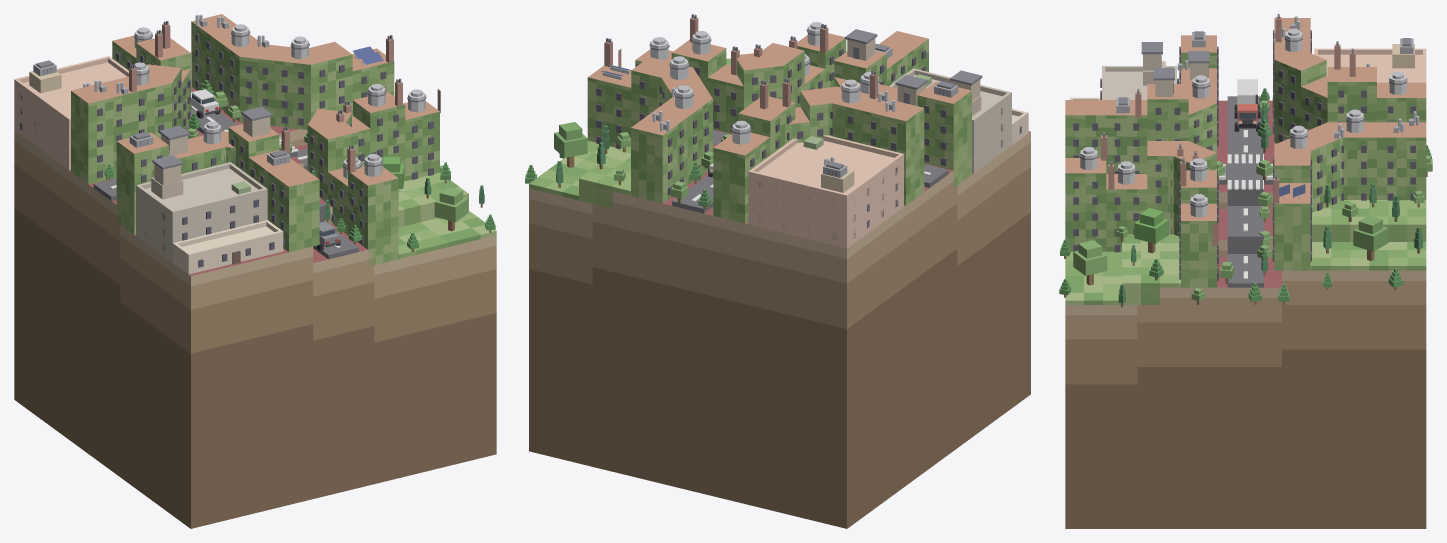
Rendered from block_18_greenfacade_55.glb.
3 renders of one model, left to right at view 1: azimuth 30°, elevation 25°; view 2: azimuth 150°, elevation 25°; view 3: azimuth 270°, elevation 25°, orthographic. The views are drawn at different scales.
Parts seen in each view (by area): view 1: Patch_MidRight_b17_GF, Cerda_MidRight_b17_GF, Insets_MidRight_b17_GF, CerdaRoofProps_MidRight_b17_GF, Green_MidRight_b17_GF, Roads_MidRight_b17_GF, Asset_Tree_Round.071_GF, Asset_Car.038_GF; view 2: Patch_MidRight_b17_GF, Cerda_MidRight_b17_GF, Insets_MidRight_b17_GF, CerdaRoofProps_MidRight_b17_GF, Green_MidRight_b17_GF, Roads_MidRight_b17_GF, Asset_Tree_Round.064_GF; view 3: Patch_MidRight_b17_GF, Cerda_MidRight_b17_GF, Green_MidRight_b17_GF, CerdaRoofProps_MidRight_b17_GF, Roads_MidRight_b17_GF, Insets_MidRight_b17_GF, Asset_Truck.010_GF, Asset_Tree_Round.064_GF, Asset_Tree_Round.071_GF, Asset_Tree_Round.070_GF, Zebra_MidRight_b17_GF.
Boxes of the visible parts, box(x1,y1,x2,y2) form: Patch_MidRight_b17_GF: box(14, 87, 496, 528); Cerda_MidRight_b17_GF: box(71, 14, 439, 265); Insets_MidRight_b17_GF: box(14, 56, 283, 274); CerdaRoofProps_MidRight_b17_GF: box(33, 14, 440, 185); Green_MidRight_b17_GF: box(398, 172, 496, 258); Roads_MidRight_b17_GF: box(93, 91, 358, 259); Asset_Tree_Round.071_GF: box(434, 187, 468, 231); Asset_Car.038_GF: box(191, 89, 219, 118); Patch_MidRight_b17_GF: box(529, 129, 1030, 528); Cerda_MidRight_b17_GF: box(587, 31, 971, 223); Insets_MidRight_b17_GF: box(748, 68, 1028, 248); CerdaRoofProps_MidRight_b17_GF: box(601, 14, 982, 177); Green_MidRight_b17_GF: box(529, 141, 645, 208); Roads_MidRight_b17_GF: box(672, 130, 948, 213); Asset_Tree_Round.064_GF: box(554, 122, 587, 167); Patch_MidRight_b17_GF: box(1065, 100, 1426, 528); Cerda_MidRight_b17_GF: box(1065, 18, 1426, 287); Green_MidRight_b17_GF: box(1065, 200, 1426, 304); CerdaRoofProps_MidRight_b17_GF: box(1079, 14, 1419, 245); Roads_MidRight_b17_GF: box(1218, 96, 1272, 287); Insets_MidRight_b17_GF: box(1069, 44, 1426, 99); Asset_Truck.010_GF: box(1234, 79, 1260, 131); Asset_Tree_Round.064_GF: box(1353, 215, 1388, 260); Asset_Tree_Round.071_GF: box(1073, 240, 1107, 285); Asset_Tree_Round.070_GF: box(1134, 208, 1168, 253); Zebra_MidRight_b17_GF: box(1219, 154, 1273, 189).
Size of the model in its own units: 10.09 by 11.16 by 9.82.
